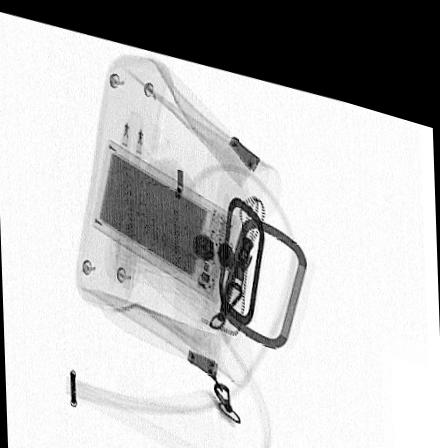Powerbank: (90, 129, 238, 291)
